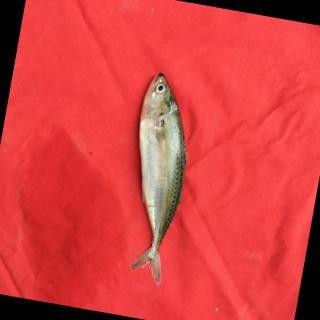Ikan: (99, 56, 243, 298)
